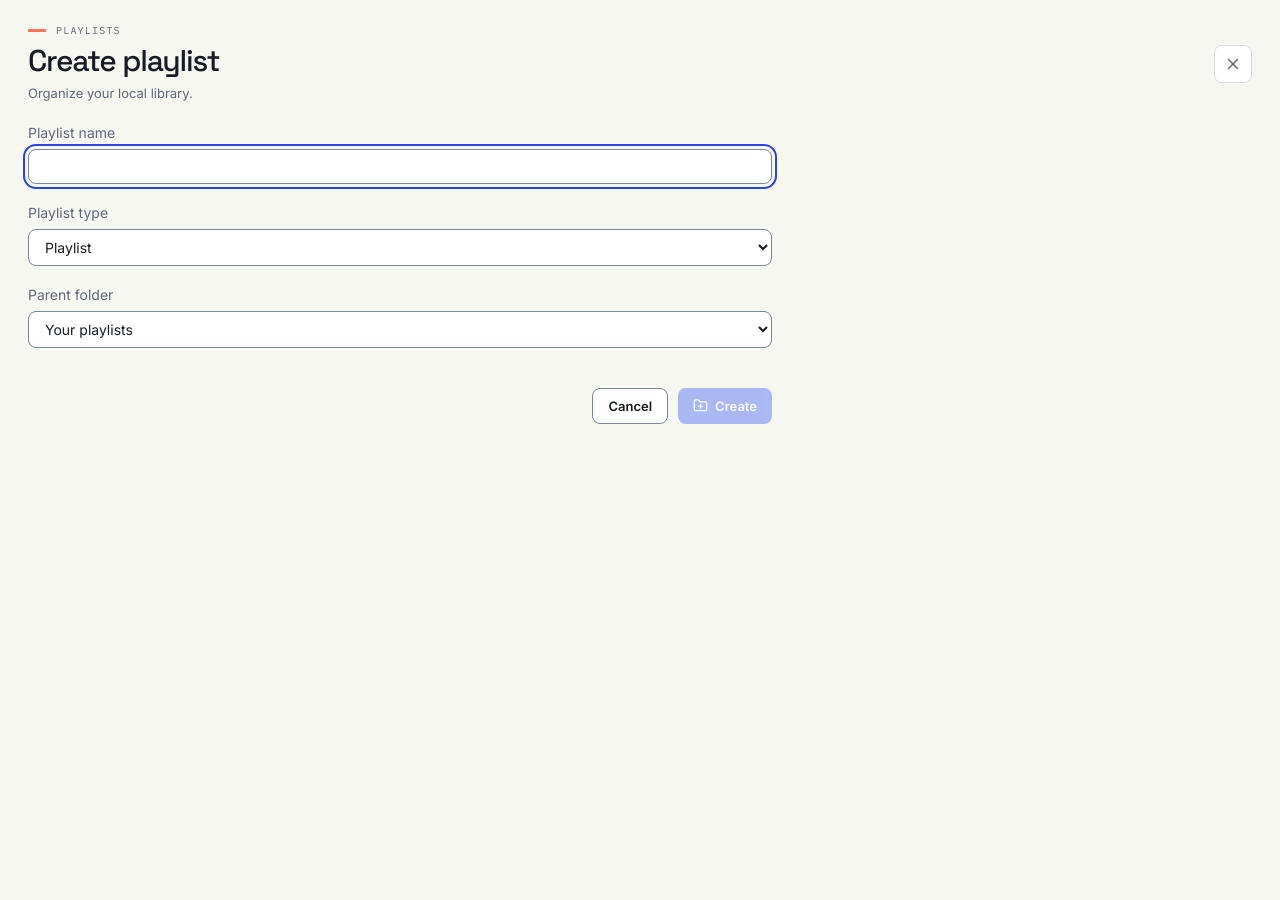
Test: smart playlist editor › blocks a rejected End date for condition 1 until a valid replacement resolves
Select "Smart playlist" in the dropdown labelled "Playlist type" at (400, 247), box [28,228,772,266]
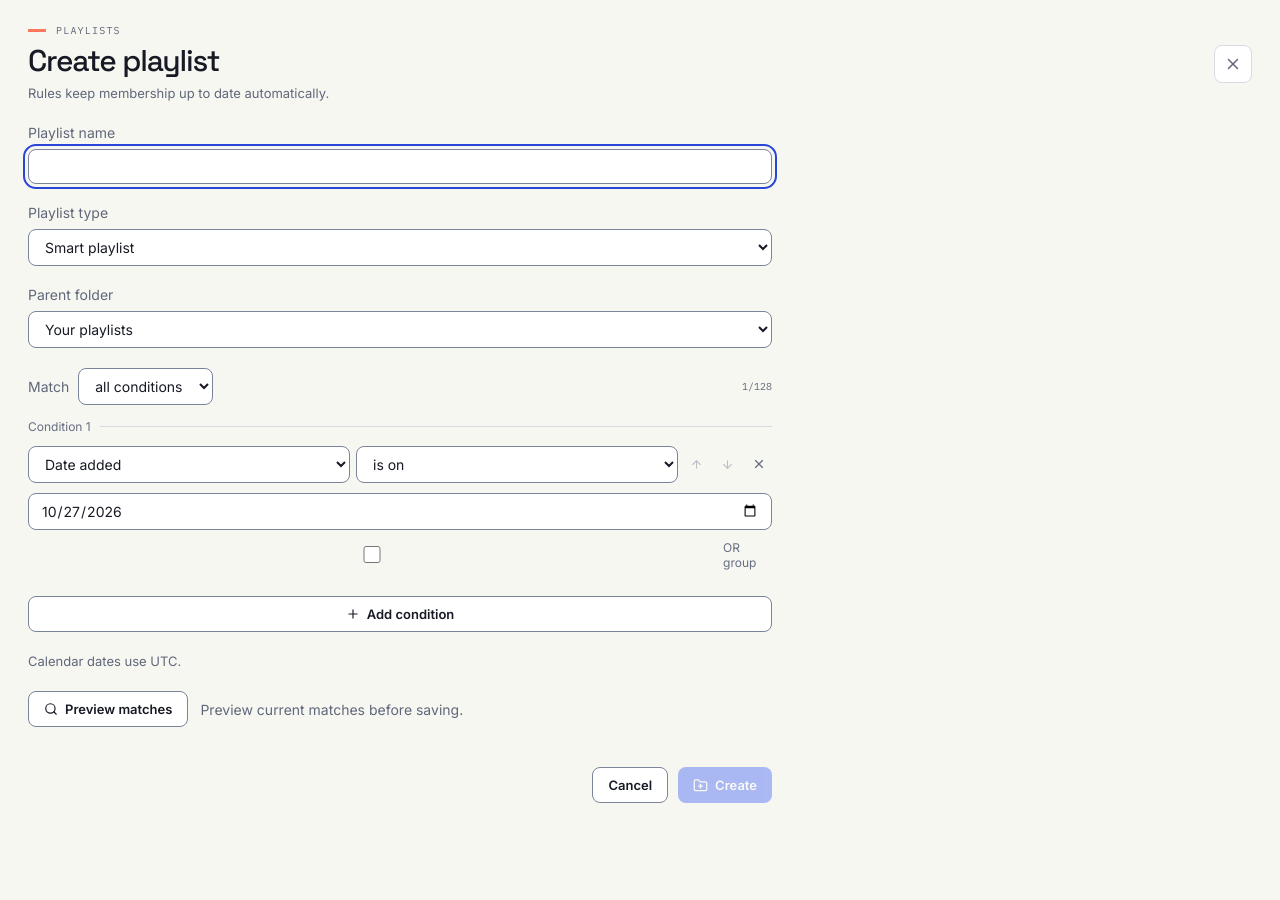
Check: the date field named "Date for condition 1" is shown, box [28,492,772,530]
Select "is between dates" in the dropdown named "Operator for condition 1" at (517, 464), box [356,446,678,482]
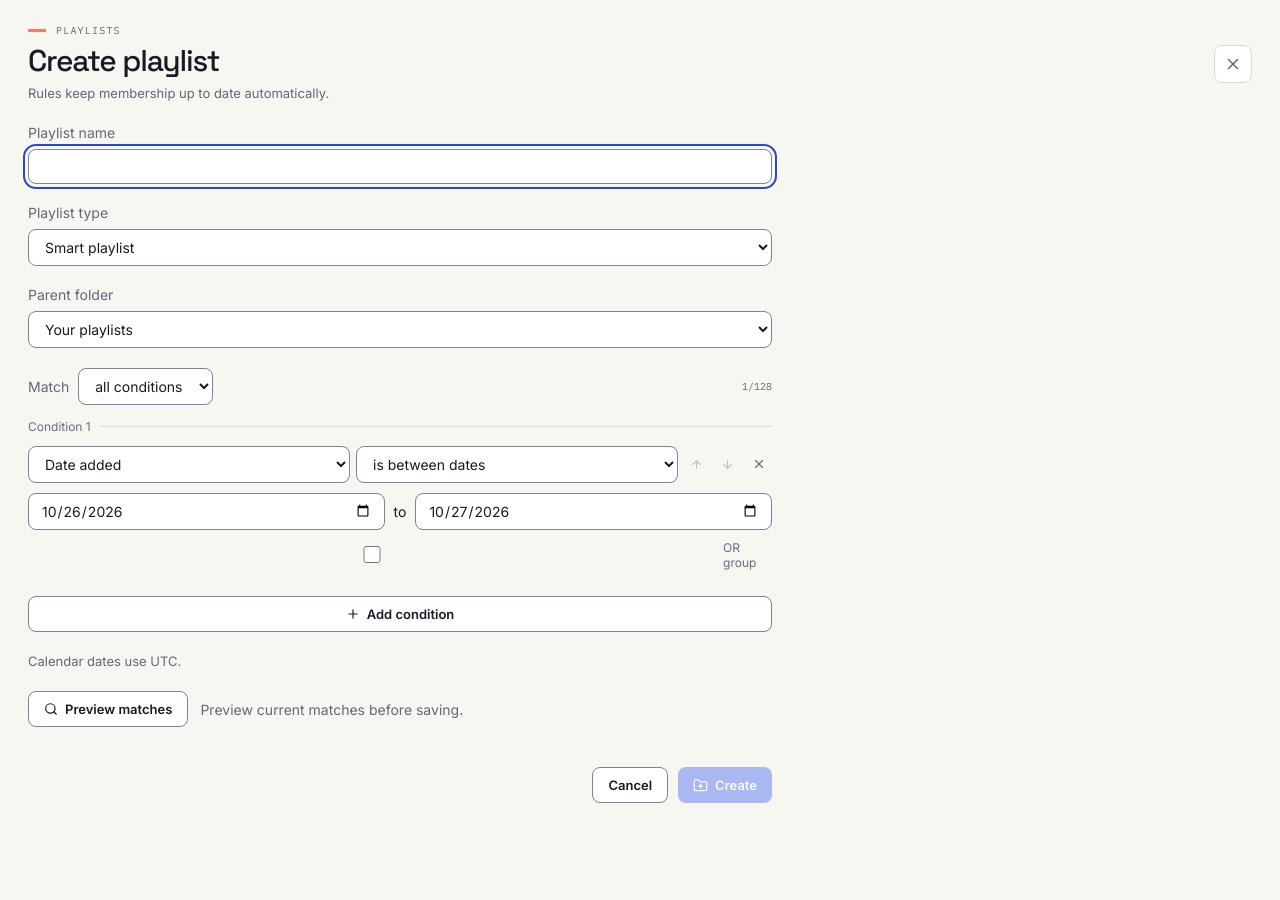
Type "Date list" into the field labelled "Playlist name" at (400, 166), box [28,148,772,184]
Click the button "Preview matches" at (108, 709), box [28,691,188,727]
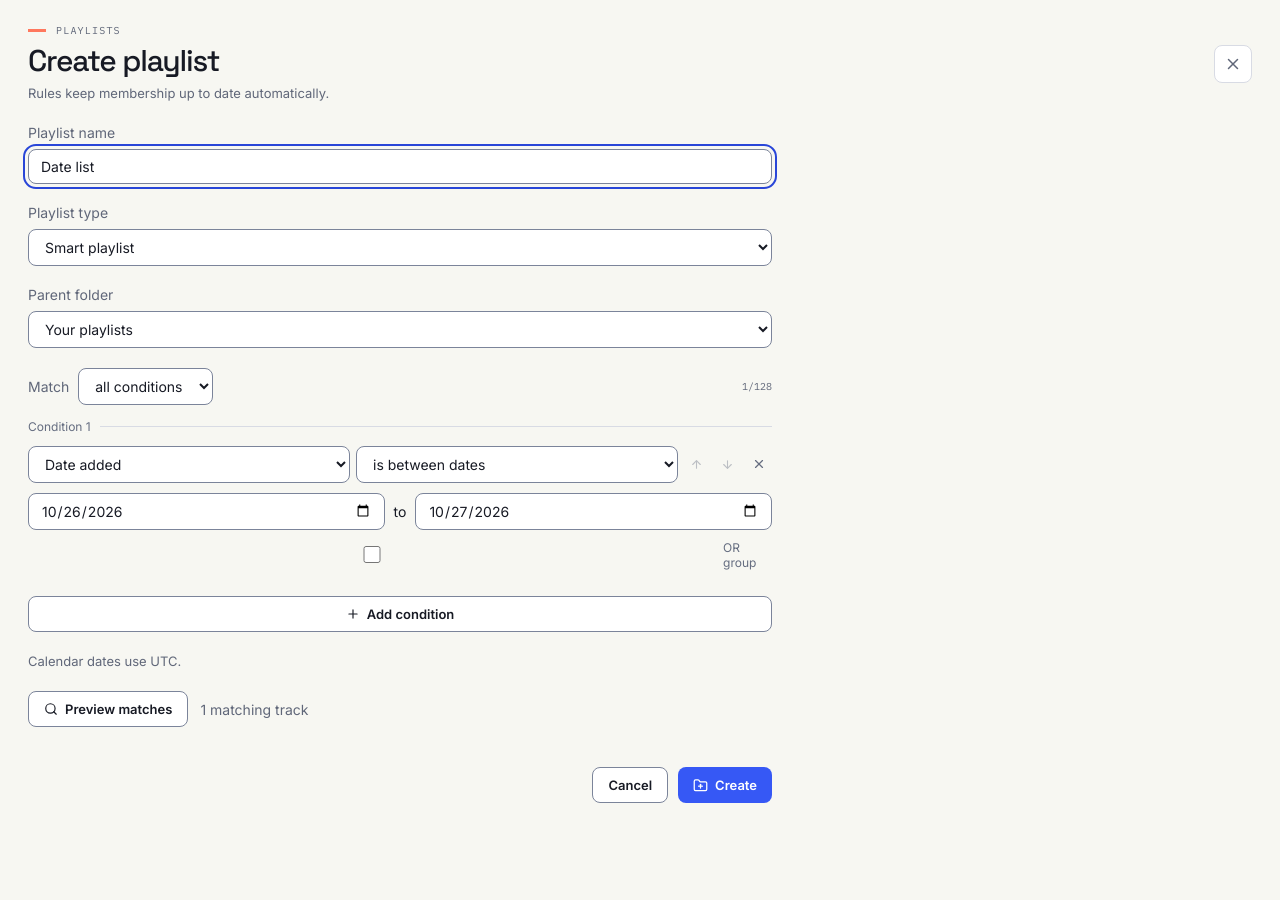
Check: the text "1 matching track" is shown, box [200,700,308,718]
Type "2026-10-16" into the date field named "End date for condition 1" at (594, 511), box [415,492,772,530]
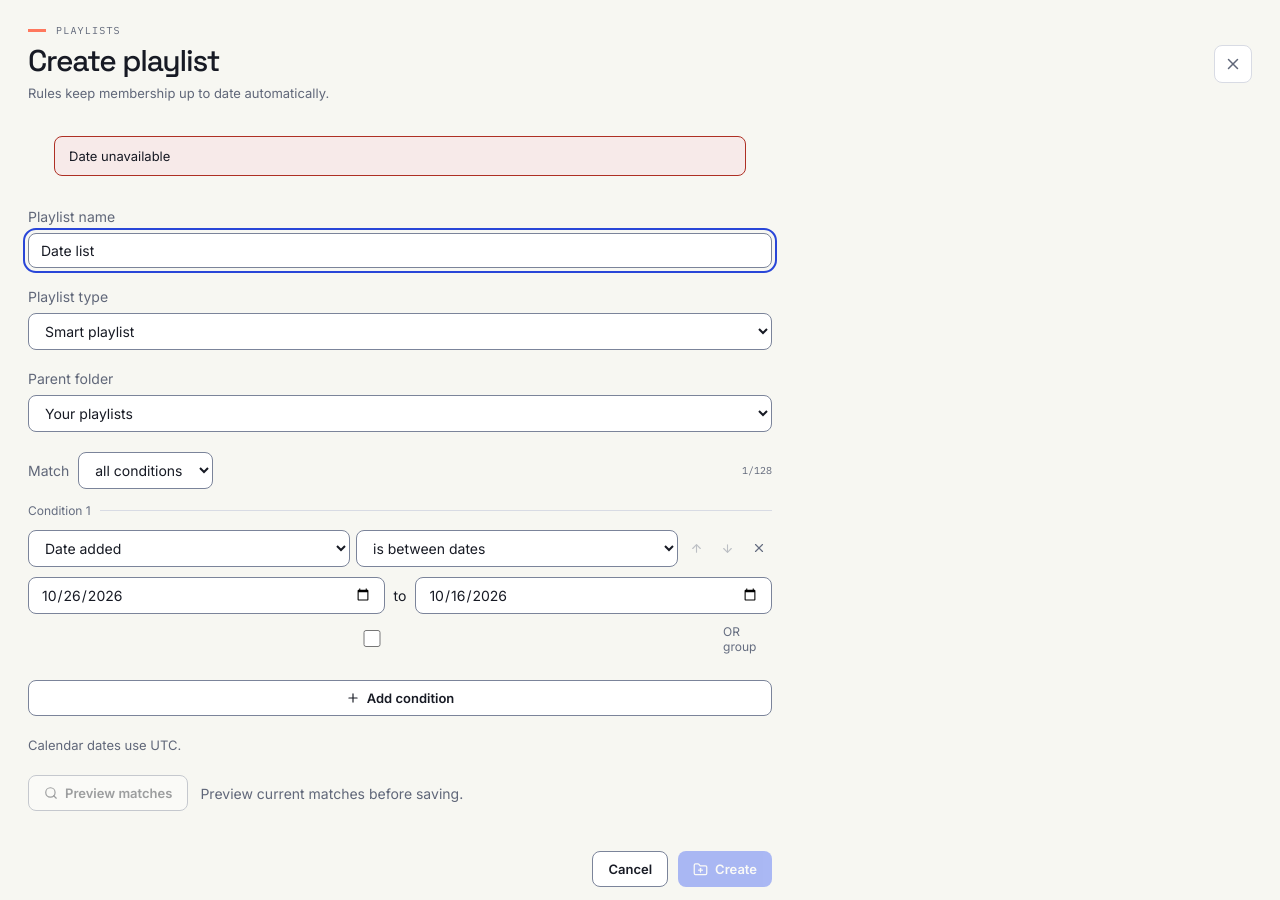
Check: the text "Date unavailable" is shown, box [54,136,746,176]
Check: the button "Preview matches" is disabled, box [28,775,188,811]
Check: the button "Create" is disabled, box [678,851,772,887]
Type "2026-10-17" into the date field named "End date for condition 1" at (594, 595), box [415,576,772,614]
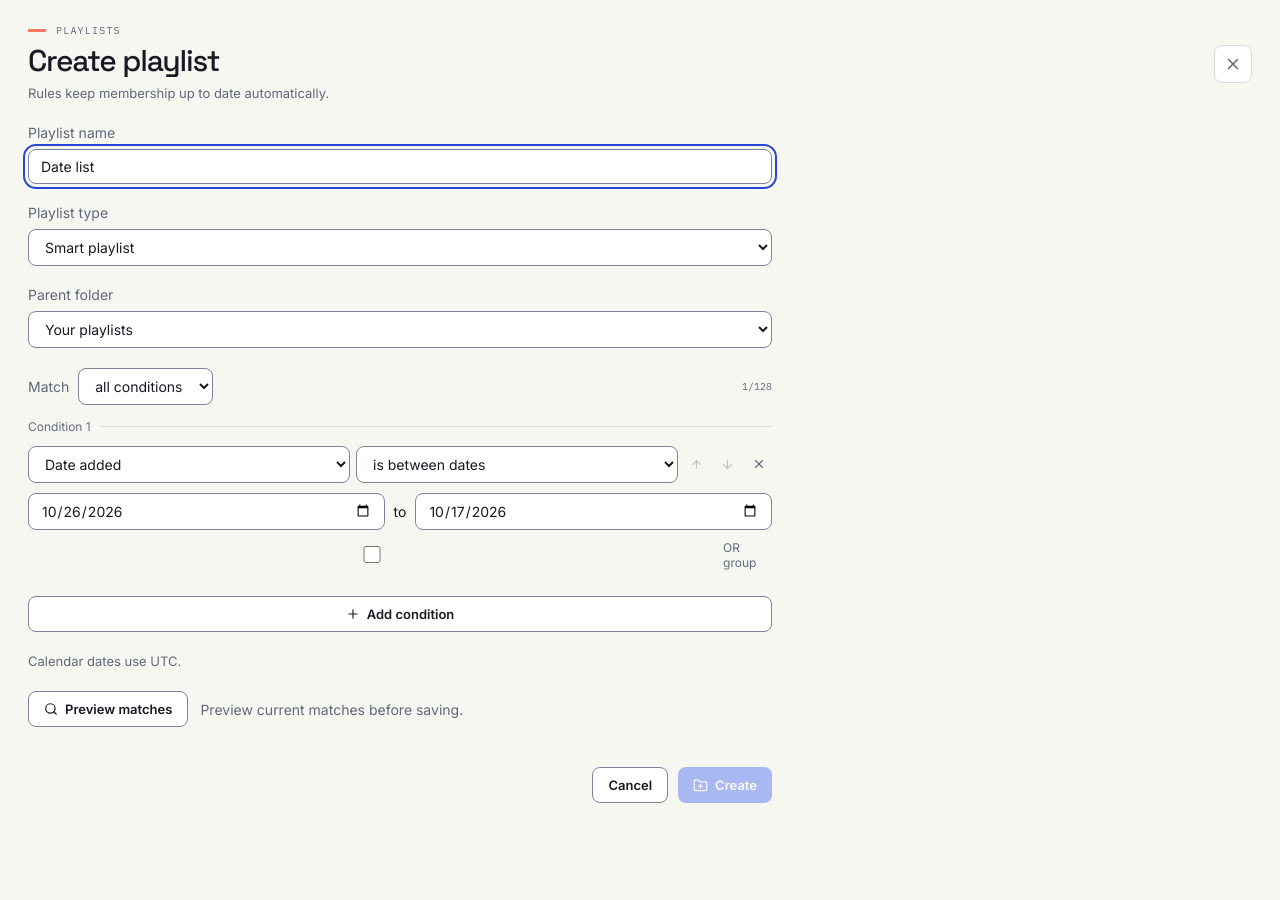
Check: the button "Create" is disabled, box [678,767,772,803]
Check: the button "Preview matches" is enabled
Click the button "Preview matches" at (108, 709), box [28,691,188,727]
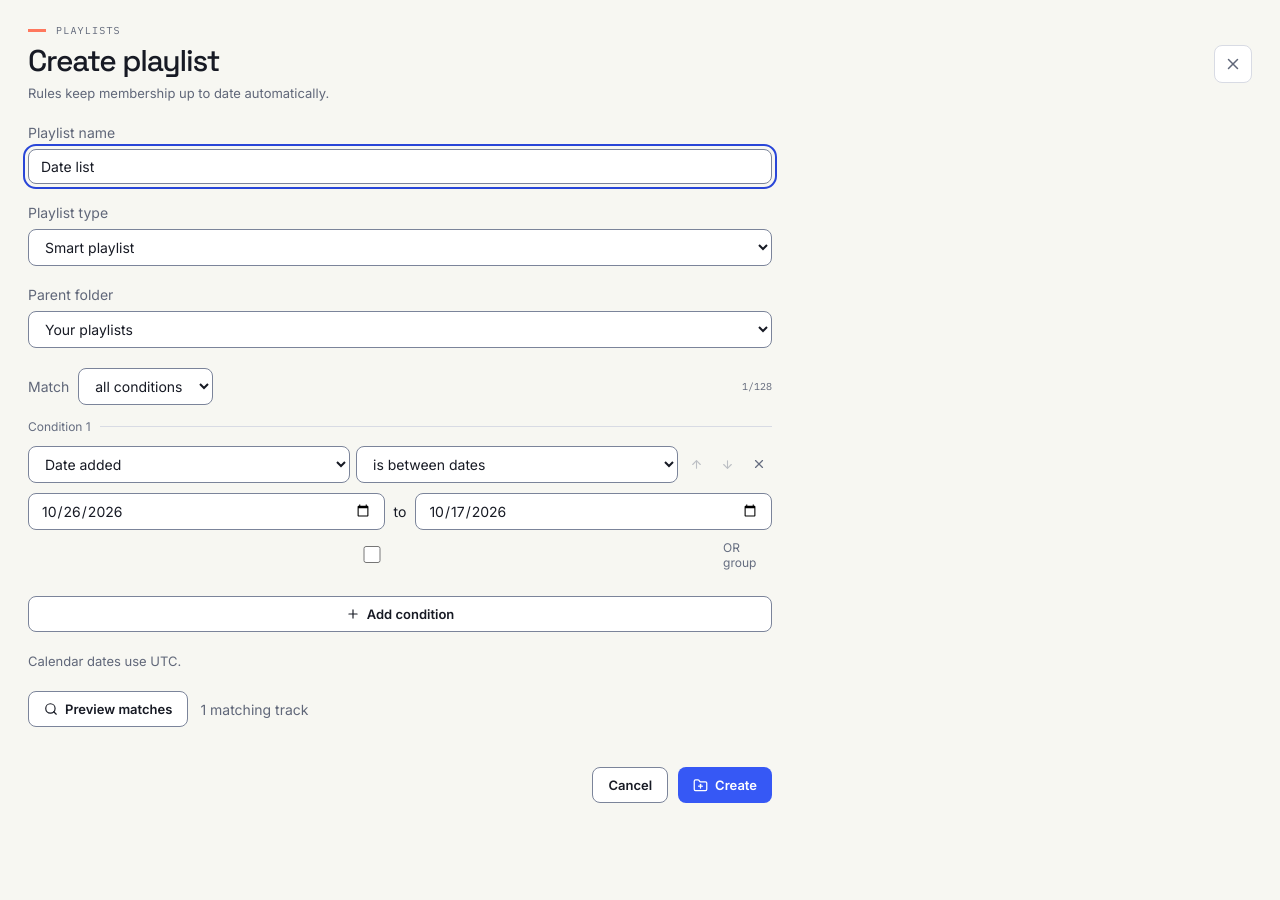
Check: the text "1 matching track" is shown, box [200,700,308,718]
